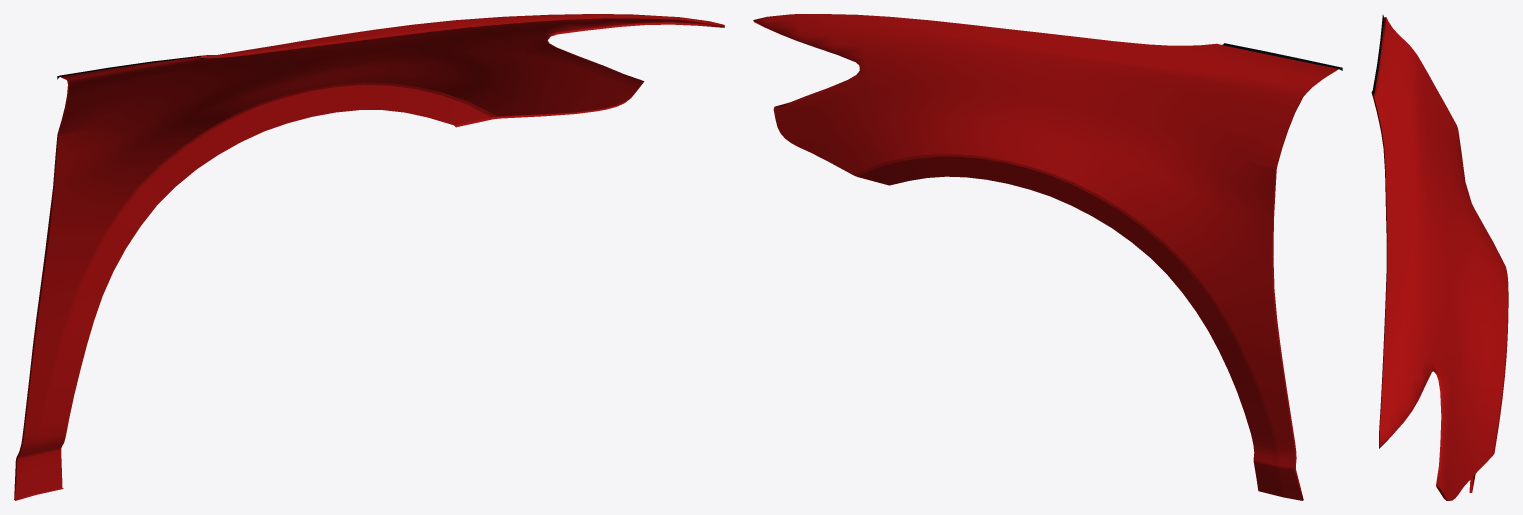
3 views of the same model, side by side, from view 1: azimuth 30°, elevation 25°; view 2: azimuth 150°, elevation 25°; view 3: azimuth 270°, elevation 25° (orthographic). The views are drawn at different scales.
Parts seen in each view (by area): view 1: Y175_18_121B_L_1_DaS_Y175_18_121B_L, Y175_18_121B_L_1_DaS_Y175_18_121B_L_E; view 2: Y175_18_121B_L_1_DaS_Y175_18_121B_L, Y175_18_121B_L_1_DaS_Y175_18_121B_L_E; view 3: Y175_18_121B_L_1_DaS_Y175_18_121B_L, Y175_18_121B_L_1_DaS_Y175_18_121B_L_E, Y175_18_121B_L_2_D_Y175_18_121B_L.
Part boxes in pixels (<box>): Y175_18_121B_L_1_DaS_Y175_18_121B_L: <box>15,14,711,499</box>; Y175_18_121B_L_1_DaS_Y175_18_121B_L_E: <box>14,15,724,500</box>; Y175_18_121B_L_1_DaS_Y175_18_121B_L: <box>753,14,1337,500</box>; Y175_18_121B_L_1_DaS_Y175_18_121B_L_E: <box>753,21,1338,500</box>; Y175_18_121B_L_1_DaS_Y175_18_121B_L: <box>1374,17,1507,500</box>; Y175_18_121B_L_1_DaS_Y175_18_121B_L_E: <box>1373,17,1508,500</box>; Y175_18_121B_L_2_D_Y175_18_121B_L: <box>1371,15,1384,97</box>.
Bounding box in the file's own units: 107 × 69.82 × 19.08.
